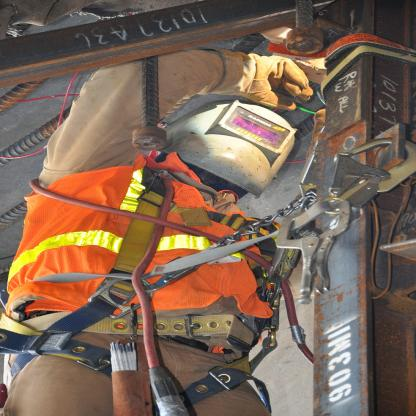Helmet: (160, 98, 302, 198)
